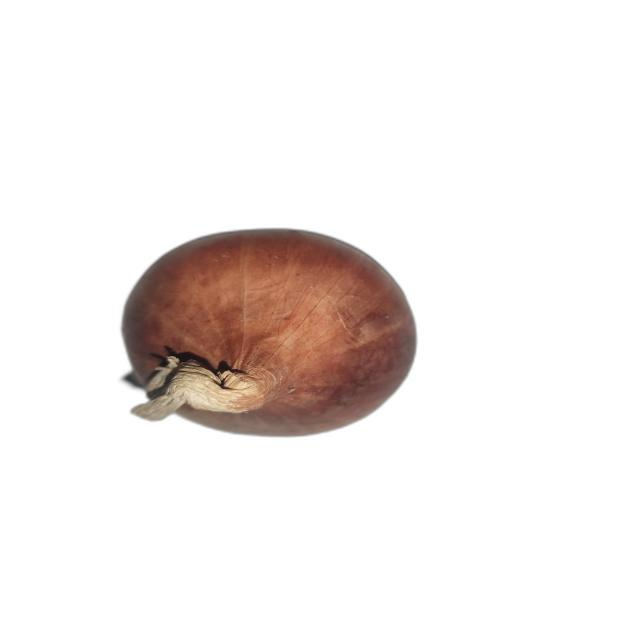onion: (119, 230, 418, 438)
